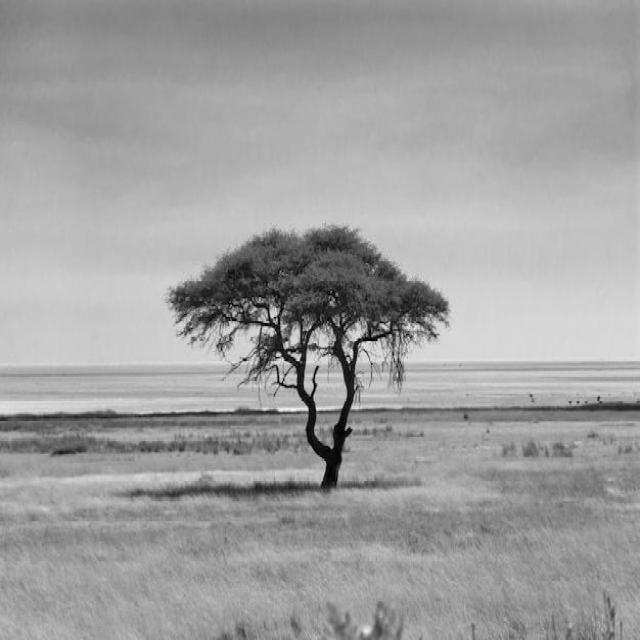Acacia: (173, 250, 430, 487)
